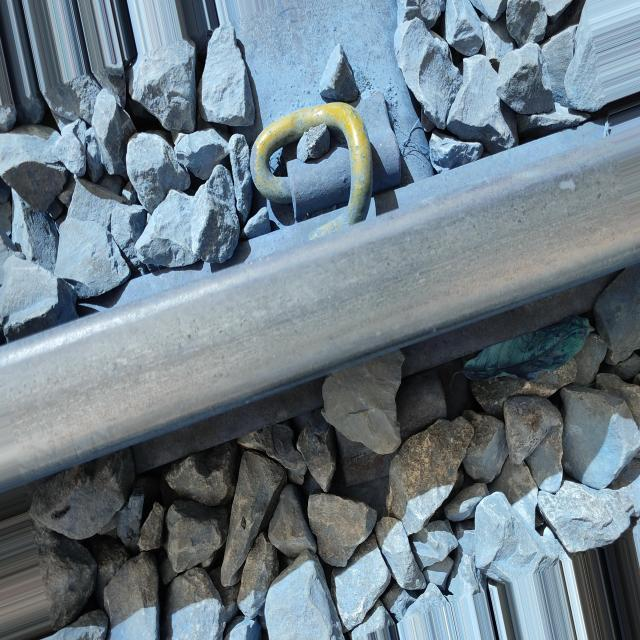Good Fasteners: (250, 102, 373, 224)
Missing Fastener: (322, 301, 547, 519)
